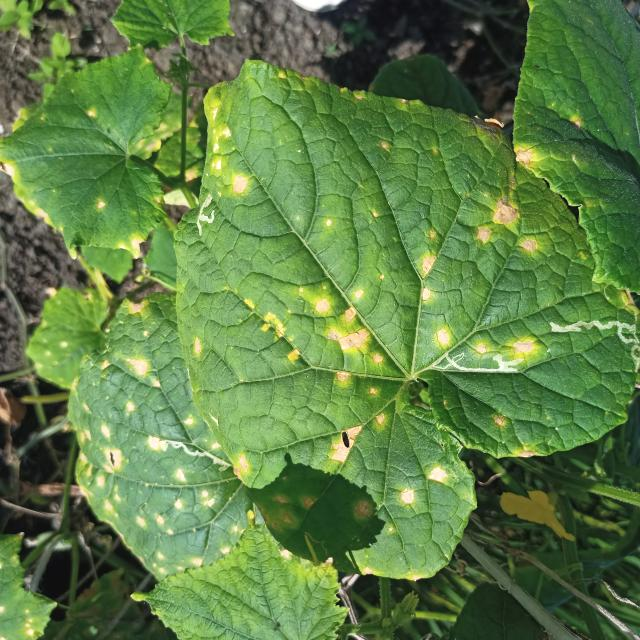disease_cucumber: (201, 100, 566, 524), (68, 333, 237, 574)
